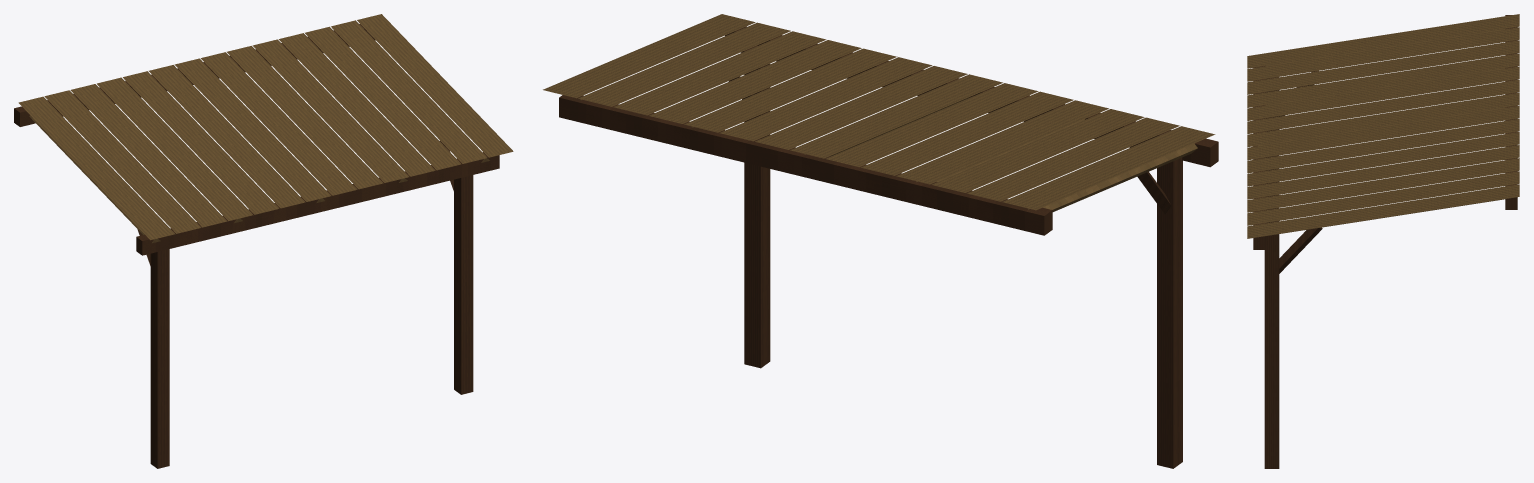
The model's file is level_camp_canopy.glb.
3 renders of one model, left to right at view 1: azimuth 30°, elevation 25°; view 2: azimuth 150°, elevation 25°; view 3: azimuth 270°, elevation 25°, orthographic. The views are drawn at different scales.
Parts seen in each view (by area): view 1: level_camp_canopy; view 2: level_camp_canopy; view 3: level_camp_canopy.
Part boxes in pixels (<box>): level_camp_canopy: <box>14,14,513,468</box>; level_camp_canopy: <box>543,14,1218,468</box>; level_camp_canopy: <box>1247,14,1519,468</box>.
Bounding box in the file's own units: 4.25 × 3.08 × 2.64.
2 materials, 2 textured.
